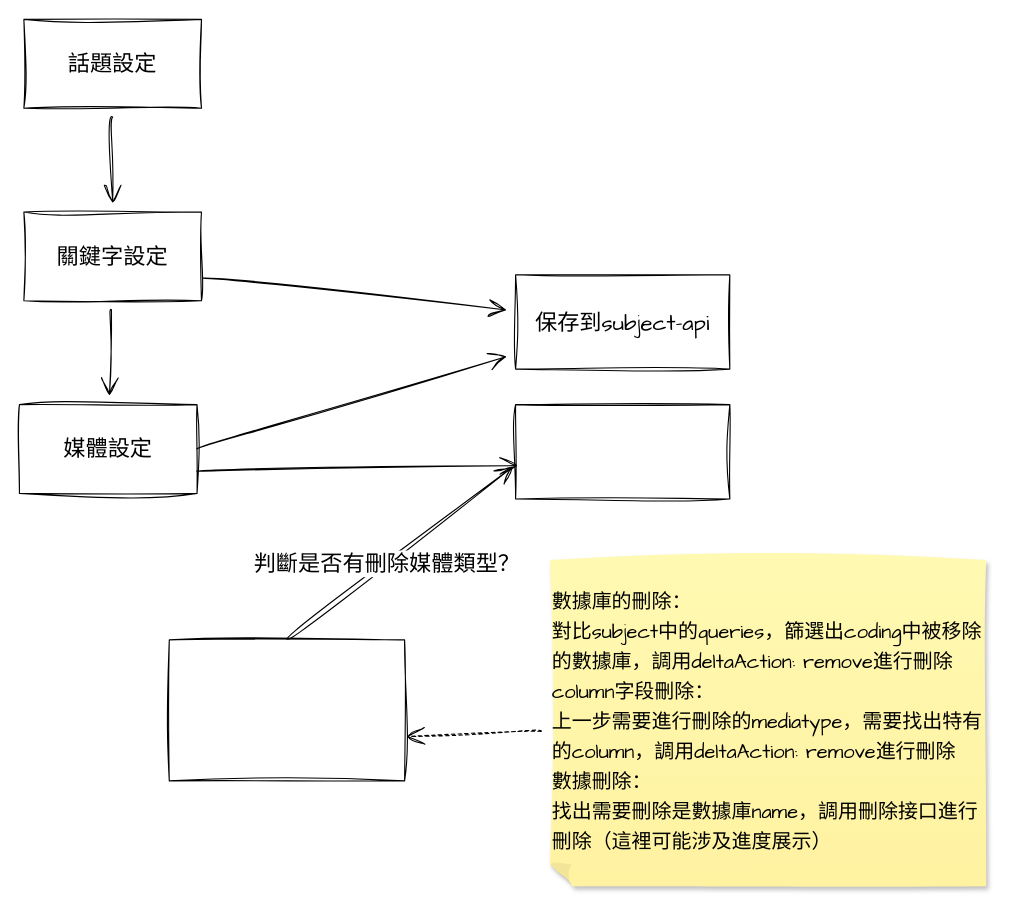
Image size: 1012x914. Some labels were removed from this diagram. Each missing label, with the centre of its shape:
"保存到coding-api" belongs at (622,451).
"刪除數據庫 刪除column字段 刪除coding-api已存在的數據" belongs at (286,710).
